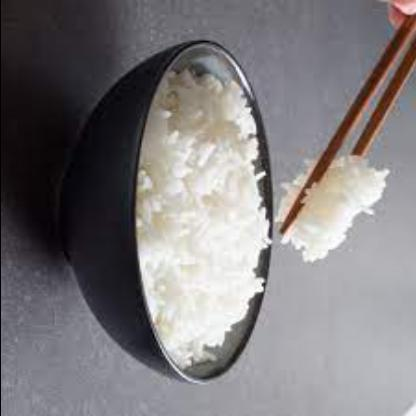white rice: (136, 69, 272, 371), (276, 156, 388, 262)
